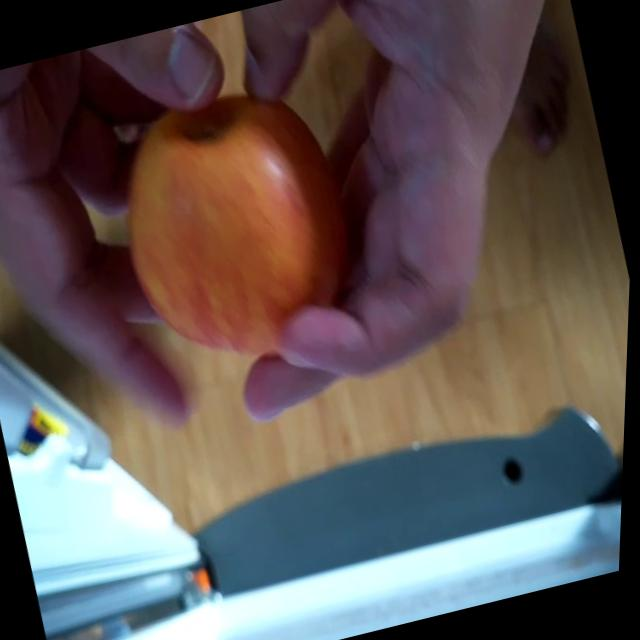apple: (96, 74, 379, 382)
